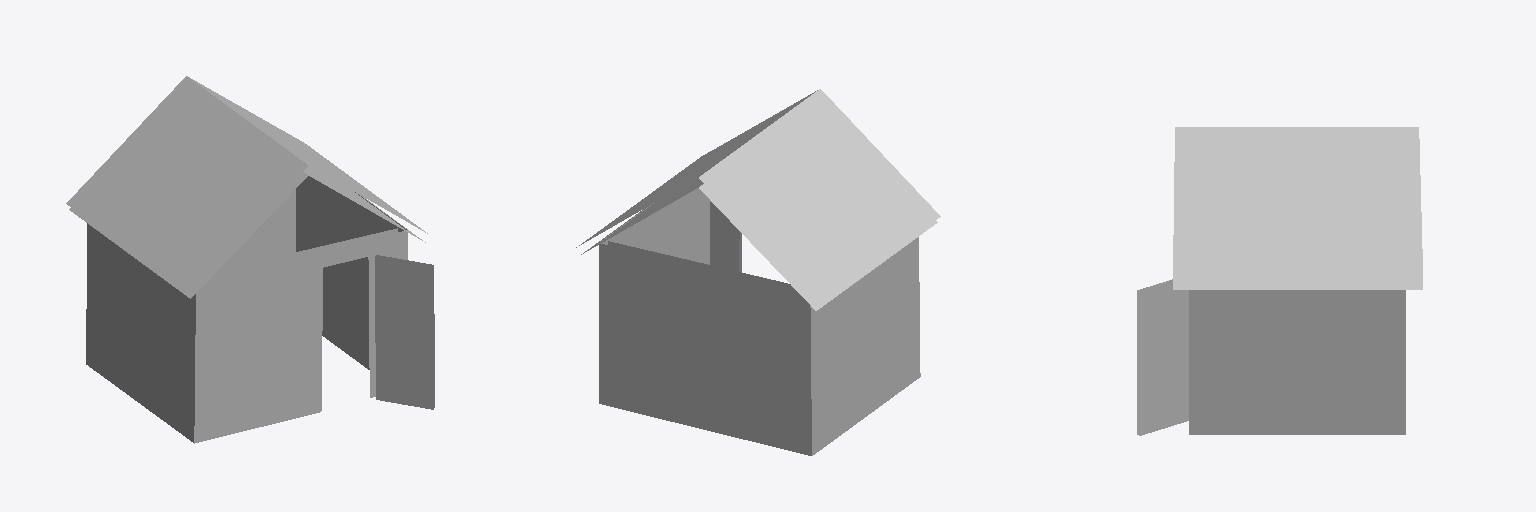
The model's file is WoodenShed1 collision.obj.
3 renders of one model, left to right at view 1: azimuth 30°, elevation 25°; view 2: azimuth 150°, elevation 25°; view 3: azimuth 270°, elevation 25°, orthographic.
Parts seen in each view (by area): view 1: Collision; view 2: Collision; view 3: Collision.
Boxes of the visible parts, box(x1,y1,x2,y2) form: Collision: box(66, 76, 434, 443); Collision: box(576, 89, 940, 455); Collision: box(1137, 127, 1422, 435).
Size of the model in its own units: 681 by 698 by 702.